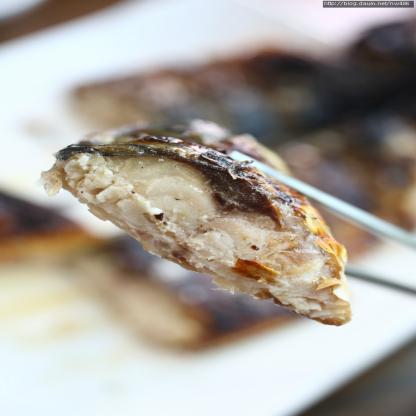Peixe: (24, 118, 376, 316)
